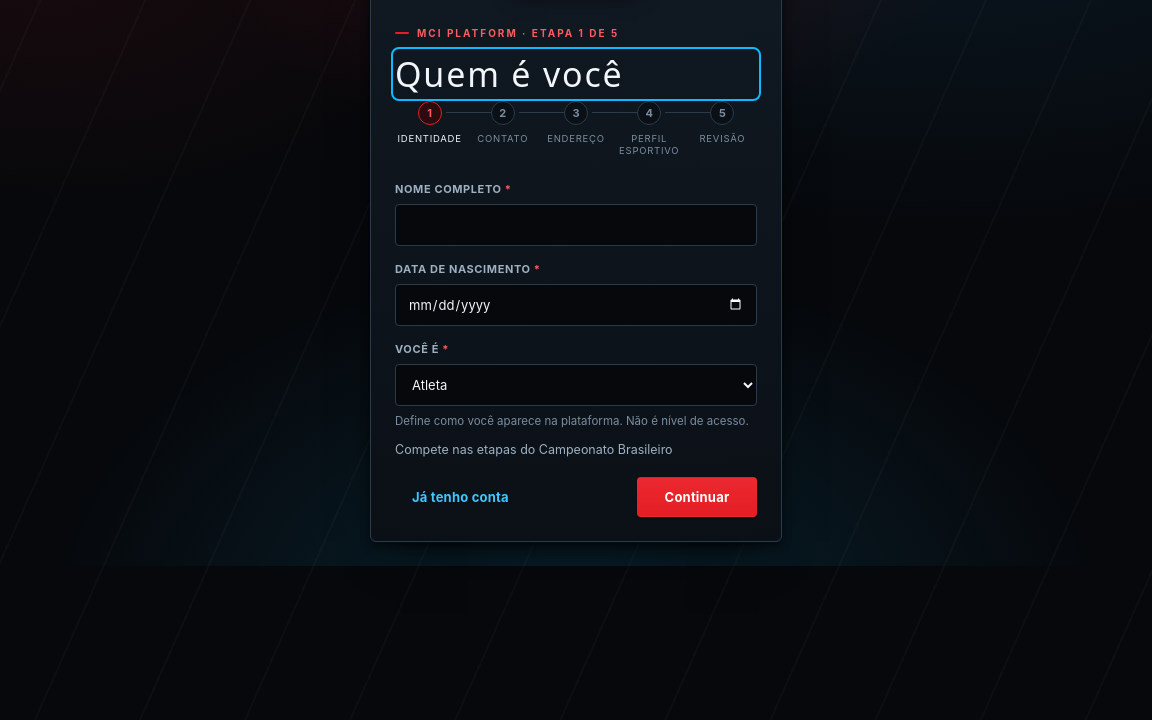
Scenario: navegação por etapas › o erro some assim que a pessoa corrige o campo
(page scrolled)
Click the button "Continuar": (697, 497) [637,477,757,517]
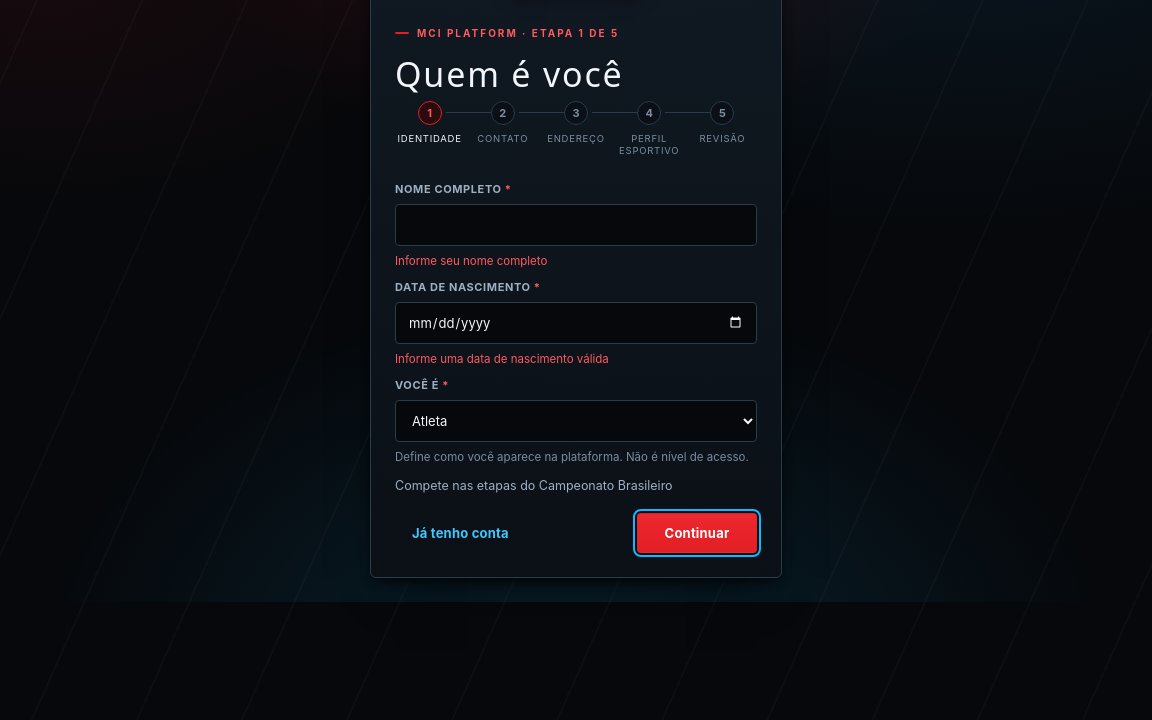
Result: the text "Informe seu nome completo" is shown at [395,254,547,268]
In the field labelled "Nome completo *": (576, 225) [395,204,757,246], type "Maria"
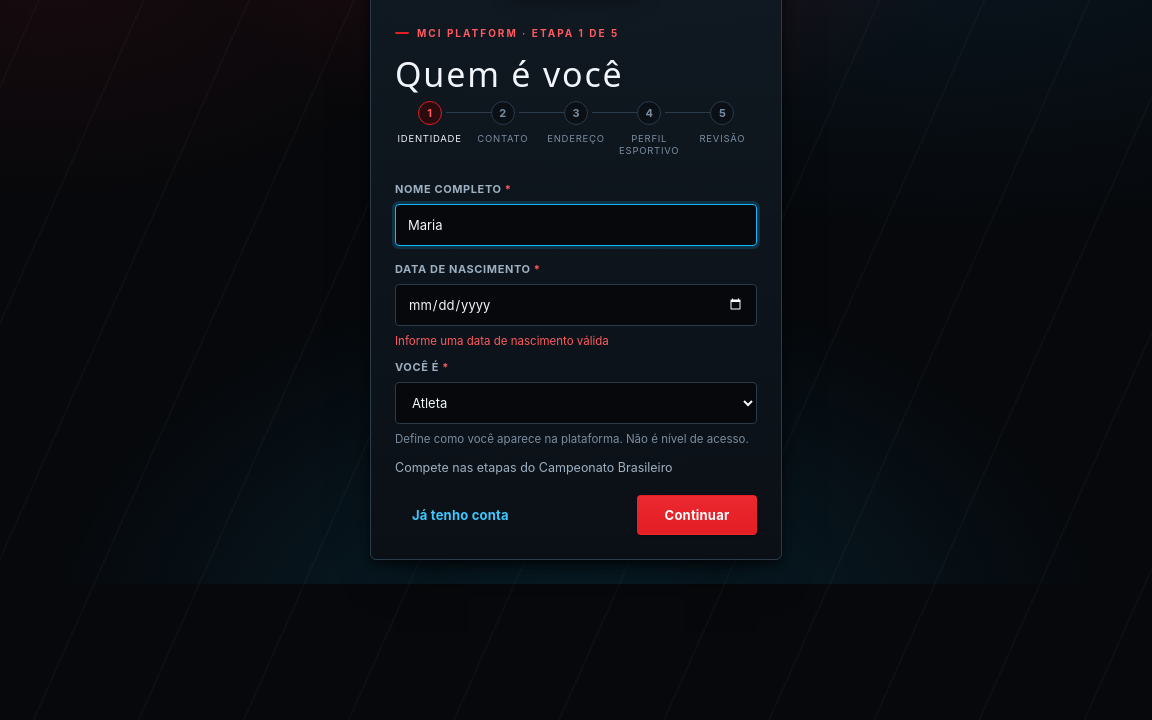
Result: the text "Informe seu nome completo" is gone
